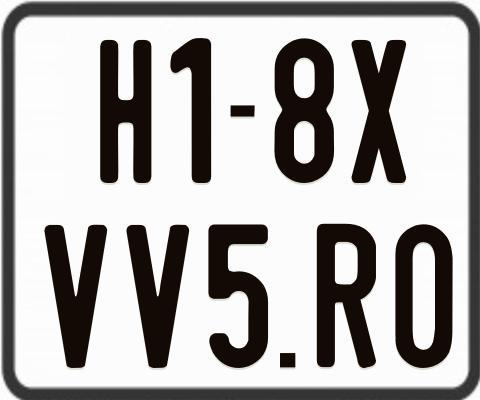0: (392, 224, 450, 373)
1: (168, 38, 210, 185)
5: (207, 221, 268, 367)
8: (272, 38, 333, 185)
H: (99, 37, 156, 180)
R: (317, 224, 376, 371)
V: (125, 225, 191, 372), (45, 224, 109, 368)
X: (352, 37, 411, 180)
